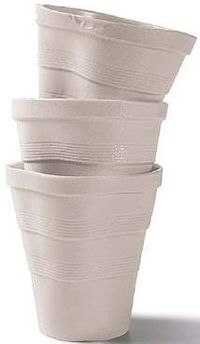Nonrec_Plastic: (13, 1, 197, 335)
